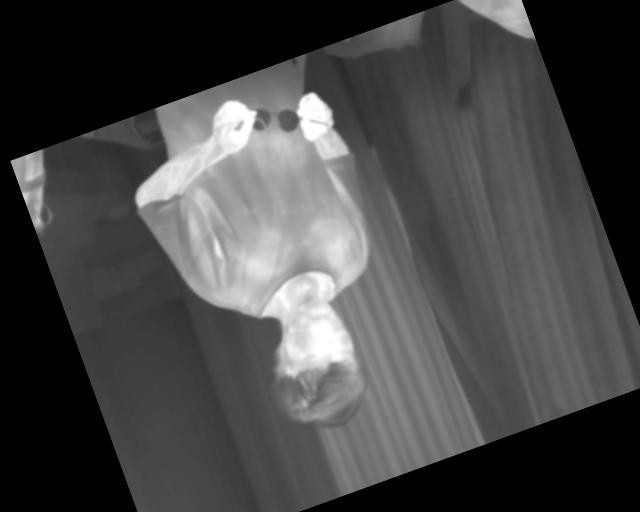face: (246, 289, 381, 445)
